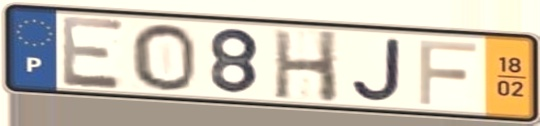8: (208, 26, 263, 97)
E: (58, 13, 128, 92)
F: (415, 37, 480, 107)
H: (270, 28, 342, 106)
J: (348, 35, 404, 104)
O: (127, 21, 199, 93)
